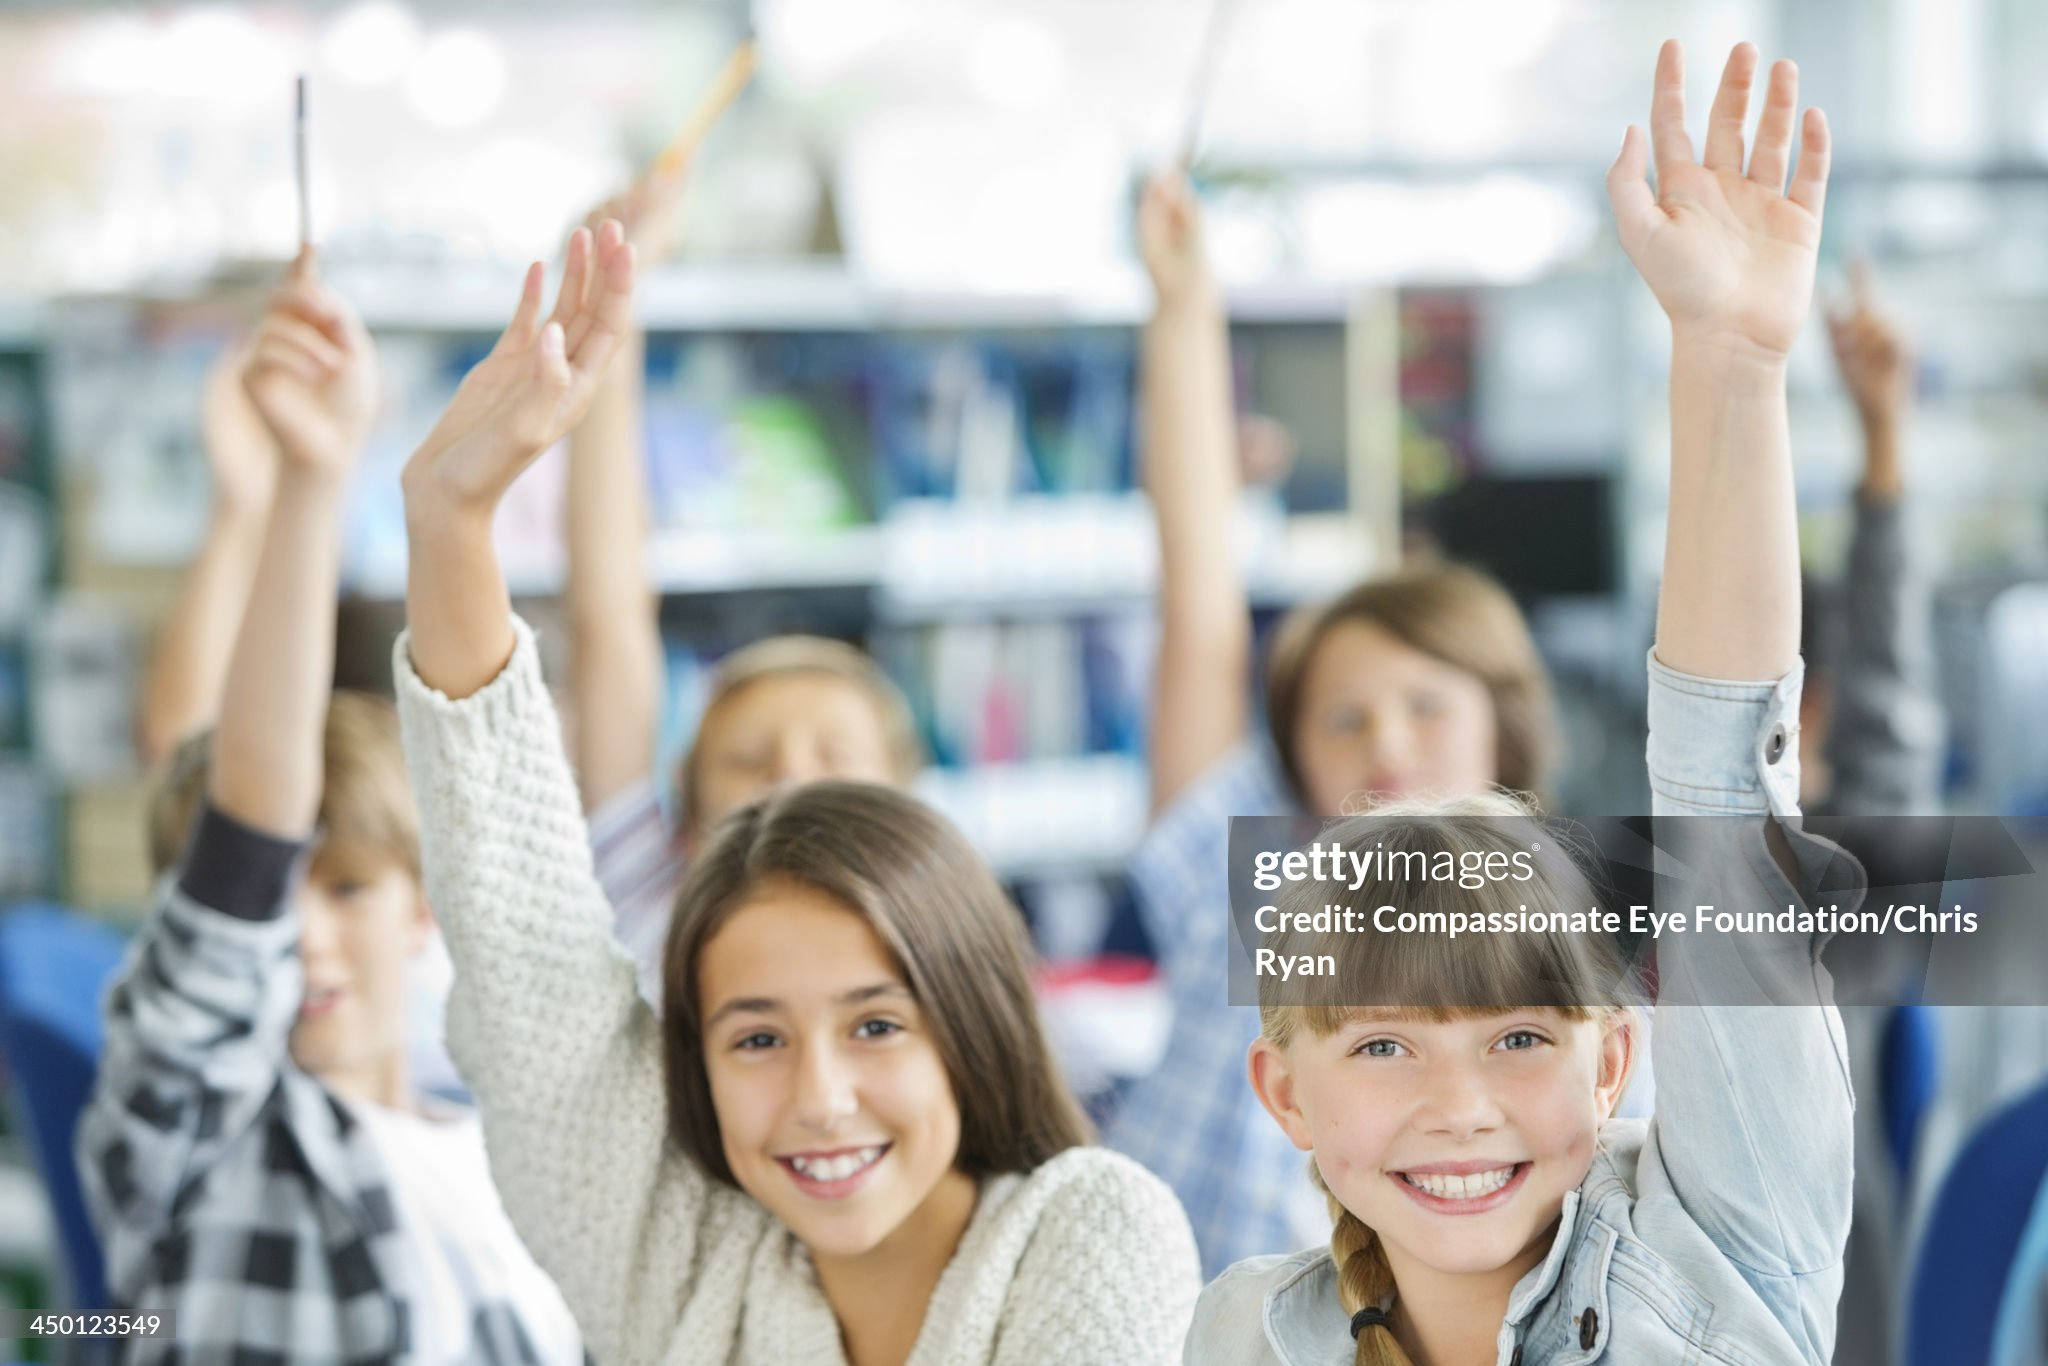mais-de-75-porcento: (52, 9, 1963, 1361)
